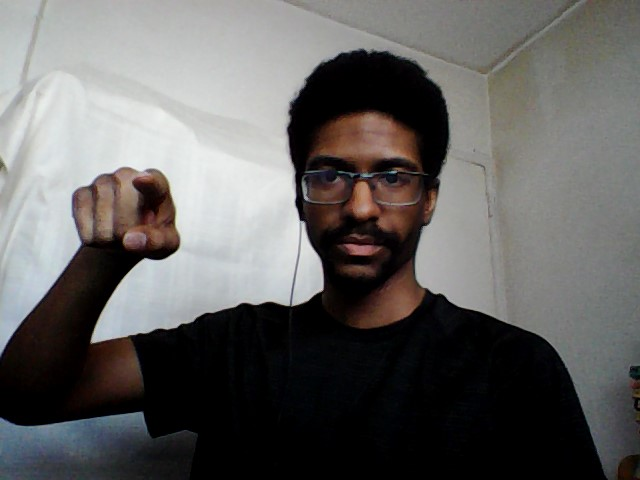z: (67, 161, 188, 264)
